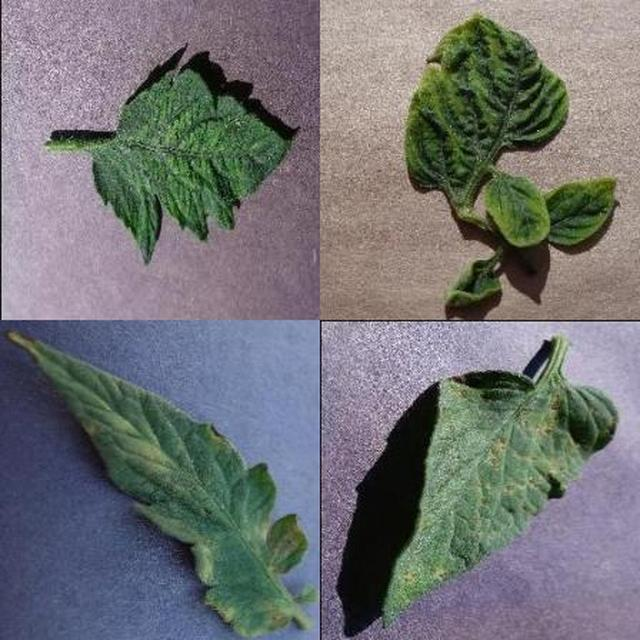Mosaic Virus Leaf: (96, 101, 640, 640)
